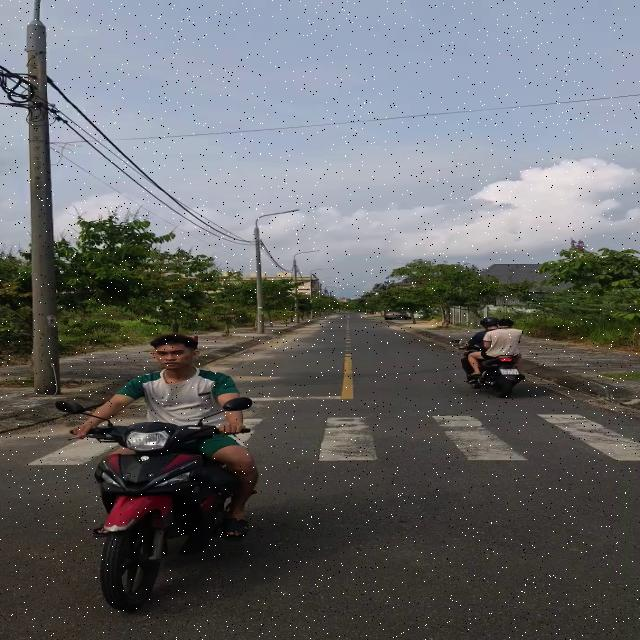helmet: (480, 317, 499, 328)
no_helmet: (152, 335, 197, 372)
